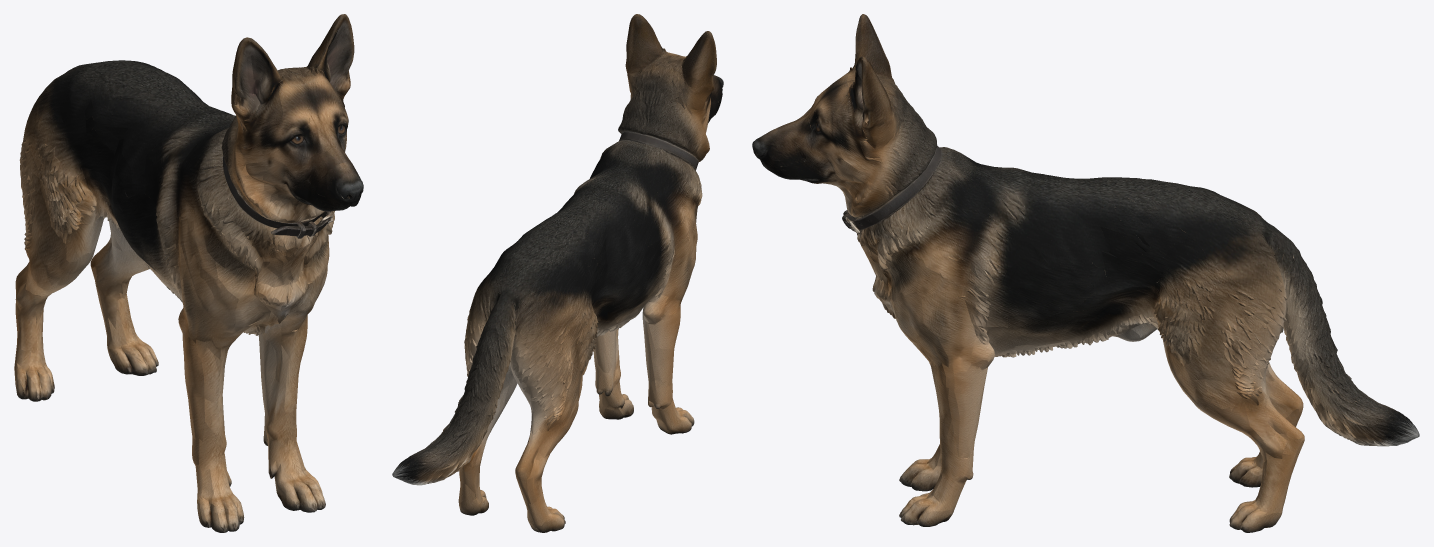
Rendered from guard_dog.glb.
The picture shows the model from 3 angles, left to right: view 1: azimuth 30°, elevation 25°; view 2: azimuth 150°, elevation 25°; view 3: azimuth 270°, elevation 25°; orthographic projection. The views are drawn at different scales.
Size of the model in its own units: 0.4403 by 1.46 by 1.9.
1 material, 1 textured.
